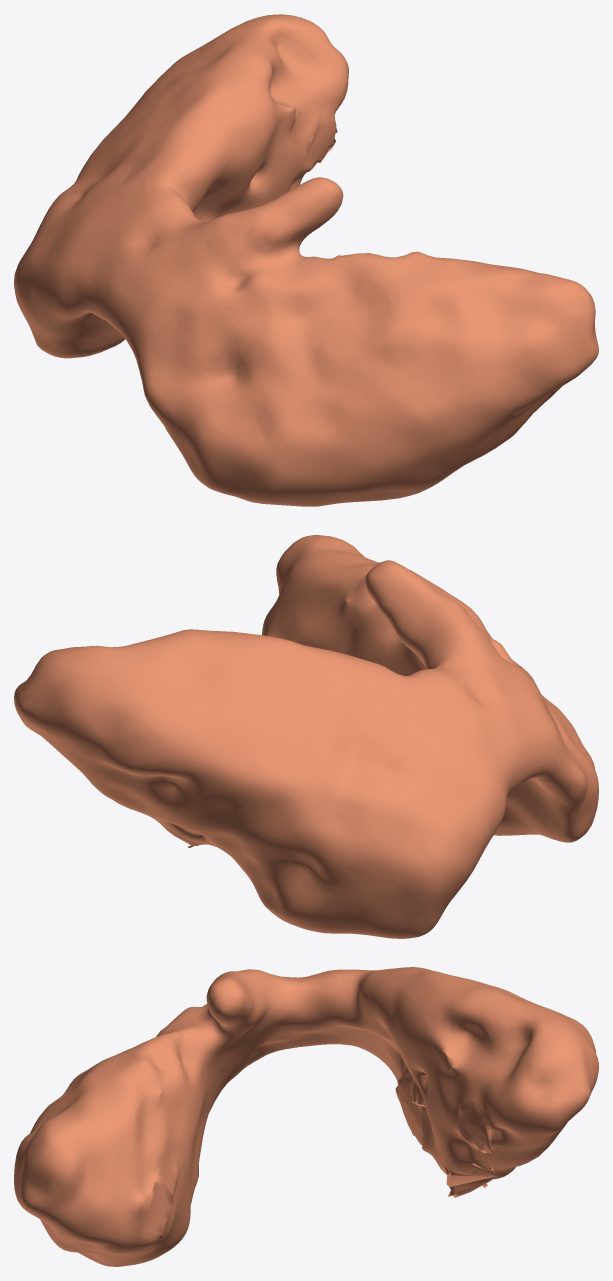
File: THYROID.fbx
3 views of the same model, one above another, from view 1: azimuth 30°, elevation 25°; view 2: azimuth 150°, elevation 25°; view 3: azimuth 270°, elevation 25° (orthographic). The views are drawn at different scales.
Parts seen in each view (by area): view 1: THYROID; view 2: THYROID; view 3: THYROID.
Boxes of the visible parts, x1,y1,x2,y2 form: THYROID: (14, 14, 598, 506); THYROID: (14, 535, 598, 938); THYROID: (14, 967, 598, 1266).
Size of the model in its own units: 4.33 by 3.23 by 6.01.
